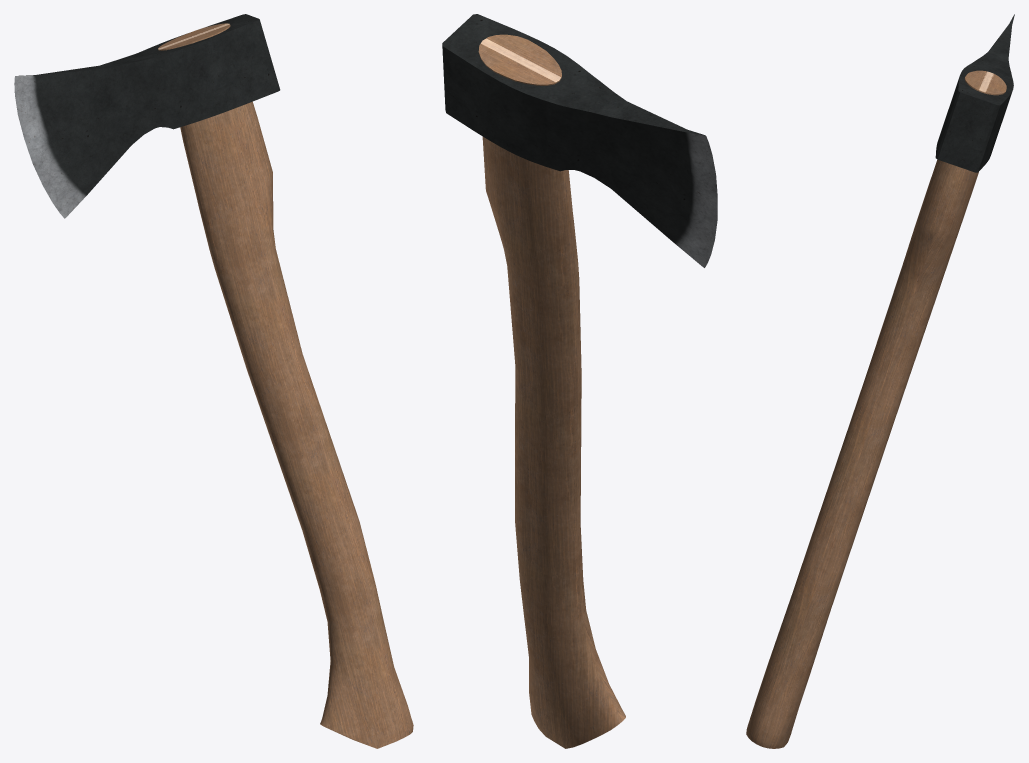
File: axe_1k.glb
3 renders of one model, left to right at view 1: azimuth 30°, elevation 25°; view 2: azimuth 150°, elevation 25°; view 3: azimuth 270°, elevation 25°, orthographic. The views are drawn at different scales.
Parts seen in each view (by area): view 1: Axe001; view 2: Axe001; view 3: Axe001.
Boxes of the visible parts, bbox=[...] form: Axe001: bbox=[14, 14, 413, 748]; Axe001: bbox=[442, 14, 717, 748]; Axe001: bbox=[746, 14, 1014, 748].
Bounding box in the file's own units: 0.2823 × 0.6587 × 0.2492.
1 material, 1 textured.
